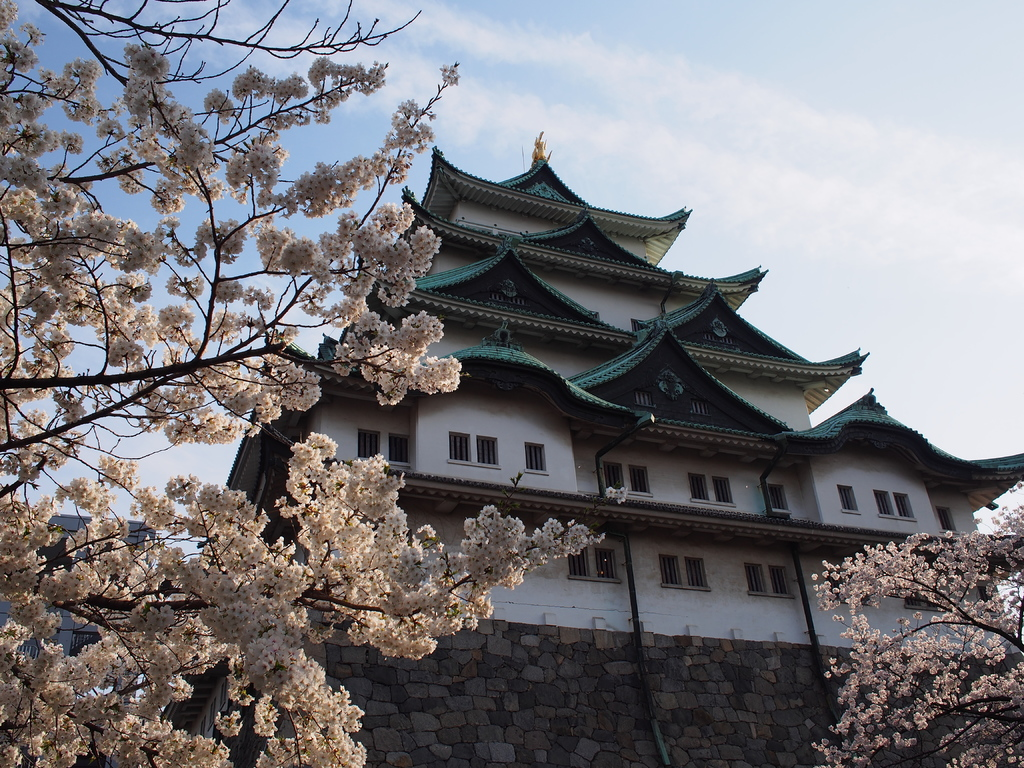Tree: (3, 0, 608, 767), (806, 497, 1022, 767)
